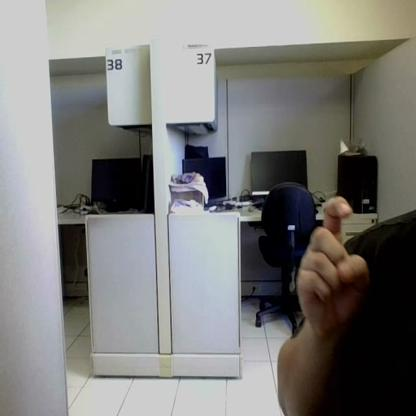X: (297, 196, 367, 334)
